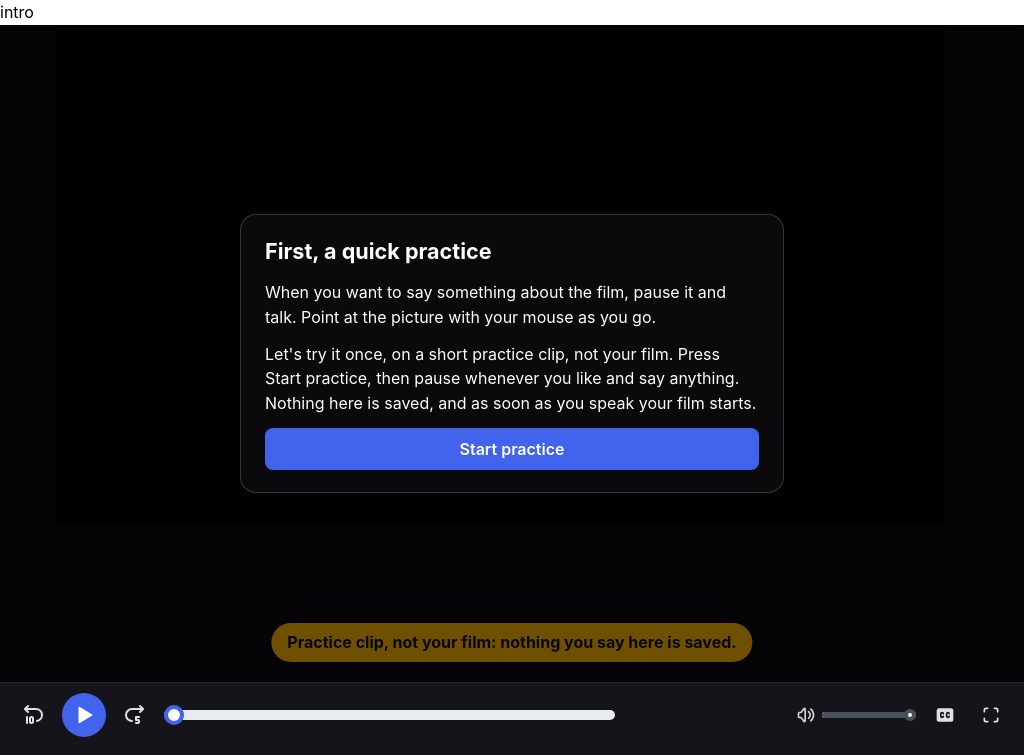
Test: practice run (talkie) › play, instead of Start practice, starts the practice too
The width and height of the screenshot is (1024, 755).
Click the button with test id "play-pause" at (84, 715), box [62,693,106,737]
Wait 5 ms
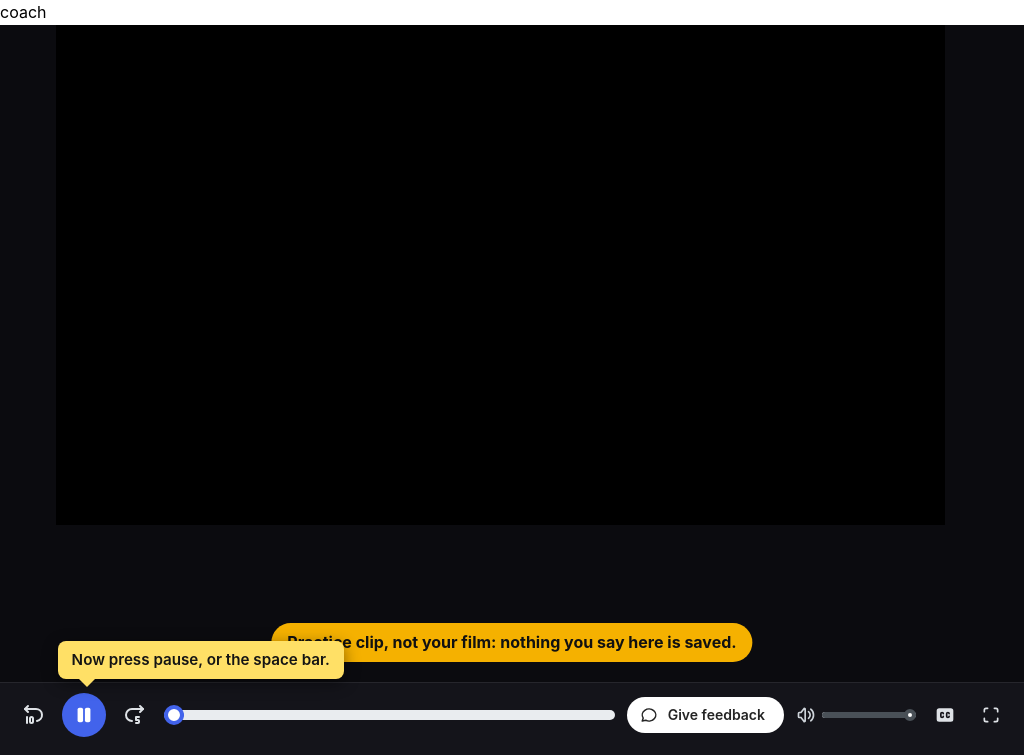
expect the text with test id "practice" reads "coach": met, box [0,2,46,22]
